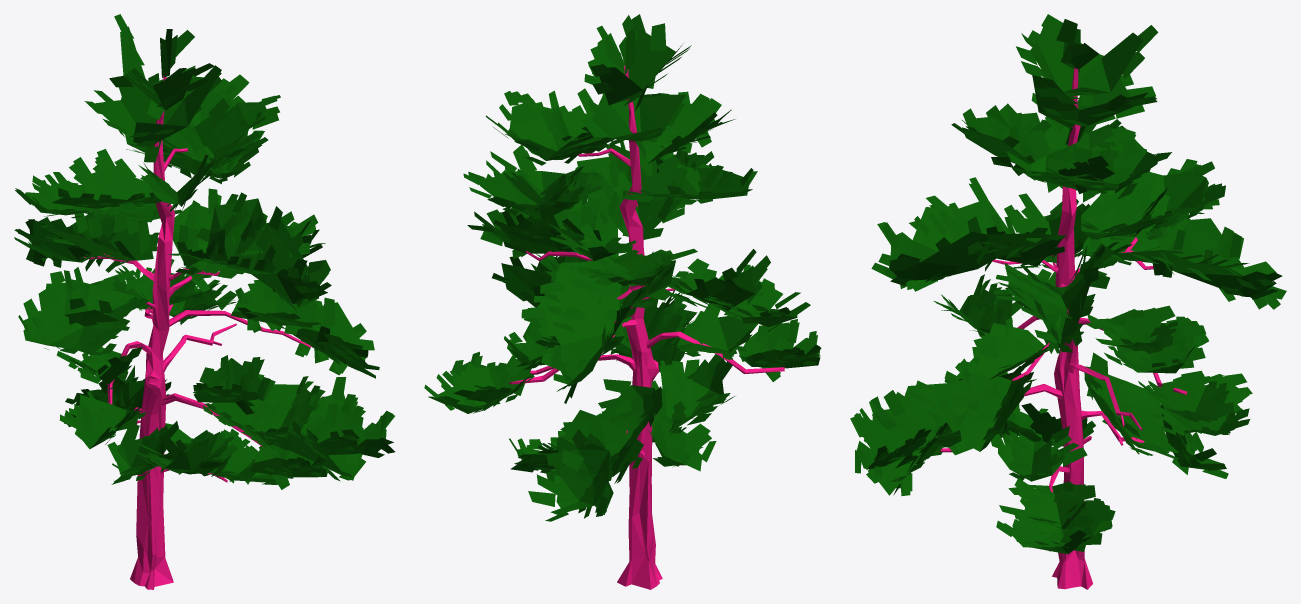
File: SM_Tree_Pine_Mature_C.fbx
3 views of the same model, side by side, from view 1: azimuth 30°, elevation 25°; view 2: azimuth 150°, elevation 25°; view 3: azimuth 270°, elevation 25° (orthographic). The views are drawn at different scales.
Parts seen in each view (by area): view 1: SM_Tree_Pine_Mature_C; view 2: SM_Tree_Pine_Mature_C; view 3: SM_Tree_Pine_Mature_C.
Part boxes in pixels (box(x1,y1,x2,y2)): SM_Tree_Pine_Mature_C: box(14, 14, 395, 589); SM_Tree_Pine_Mature_C: box(424, 14, 821, 589); SM_Tree_Pine_Mature_C: box(850, 14, 1286, 589).
Bounding box in the file's own units: 6.39 × 10.3 × 7.14.
